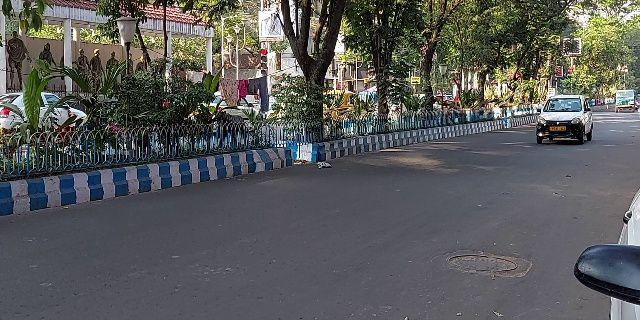Car: (533, 91, 600, 153)
